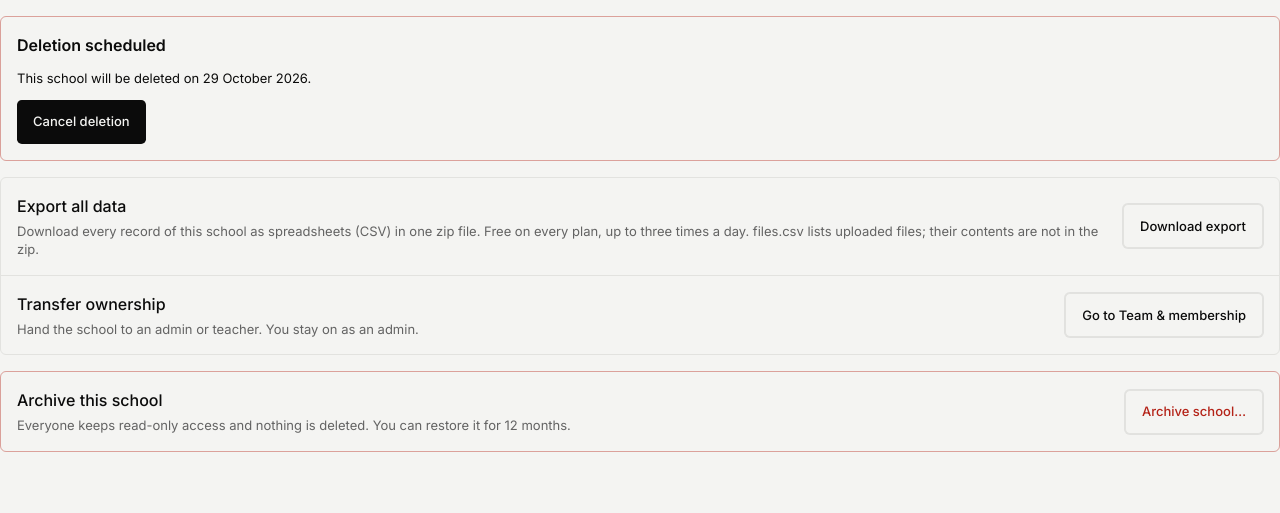
DangerZoneView (D-211) › offers cancel instead of delete while a deletion is scheduled
Check: the text "This school will be deleted on 29 October 2026." is shown, box [17, 70, 311, 86]
Click the button "Cancel deletion".
click(81, 122)  # box [17, 100, 146, 144]
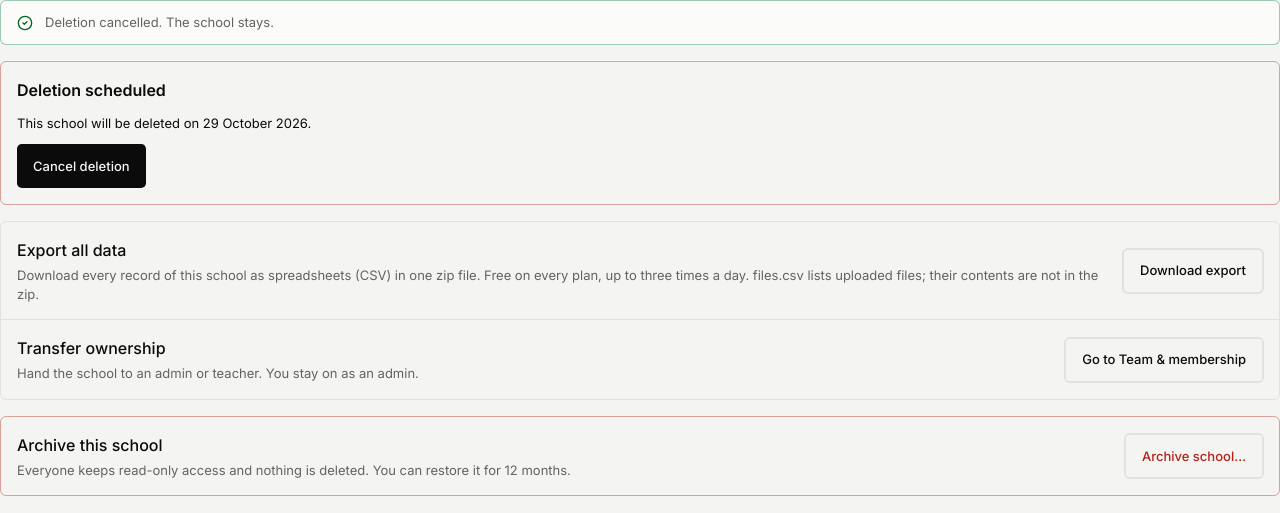
Check: the text "Deletion cancelled. The school stays." is shown, box [45, 14, 274, 30]
